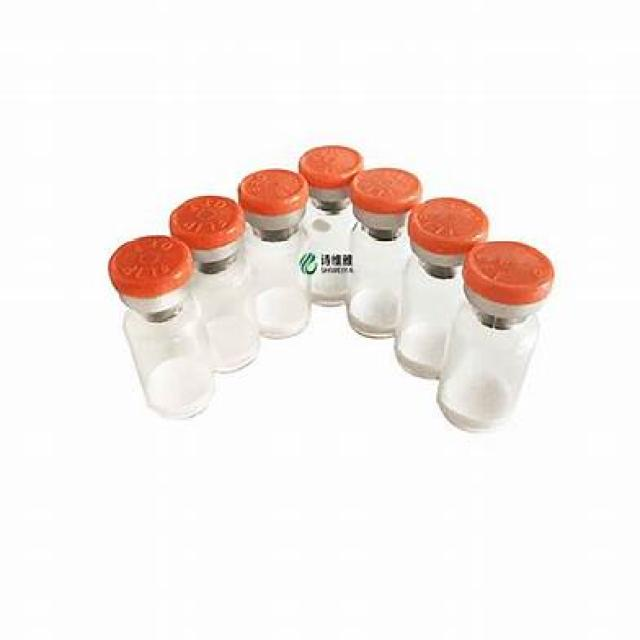vial: (464, 239, 564, 293), (102, 237, 190, 282), (420, 197, 497, 245), (235, 169, 305, 220), (165, 195, 240, 242), (350, 165, 419, 209), (301, 140, 362, 184)
